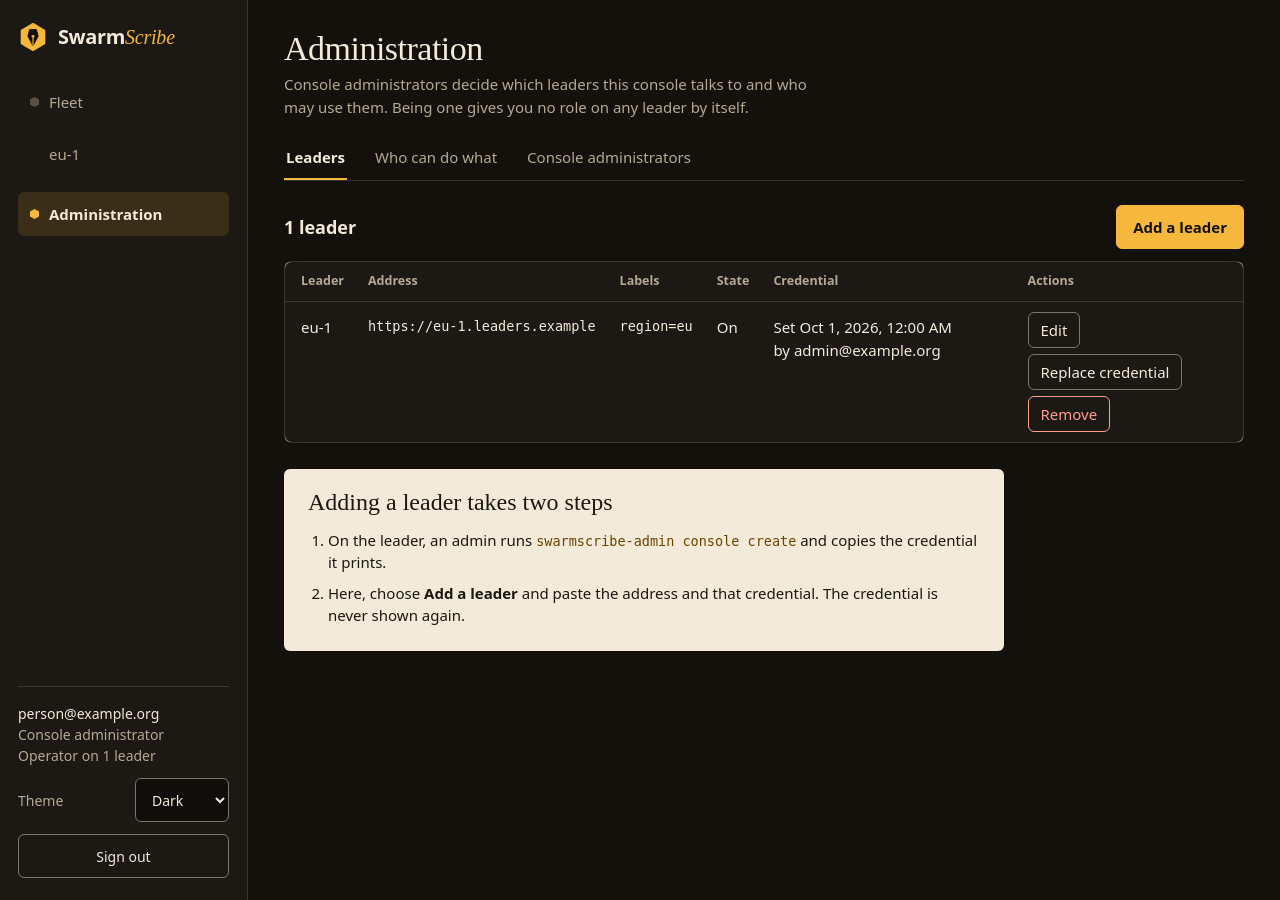
Test: administration pages › refuses malformed labels before sending anything
Click the button with aria-label "Edit eu-1".
click(1054, 330)  # box [1028,312,1080,348]
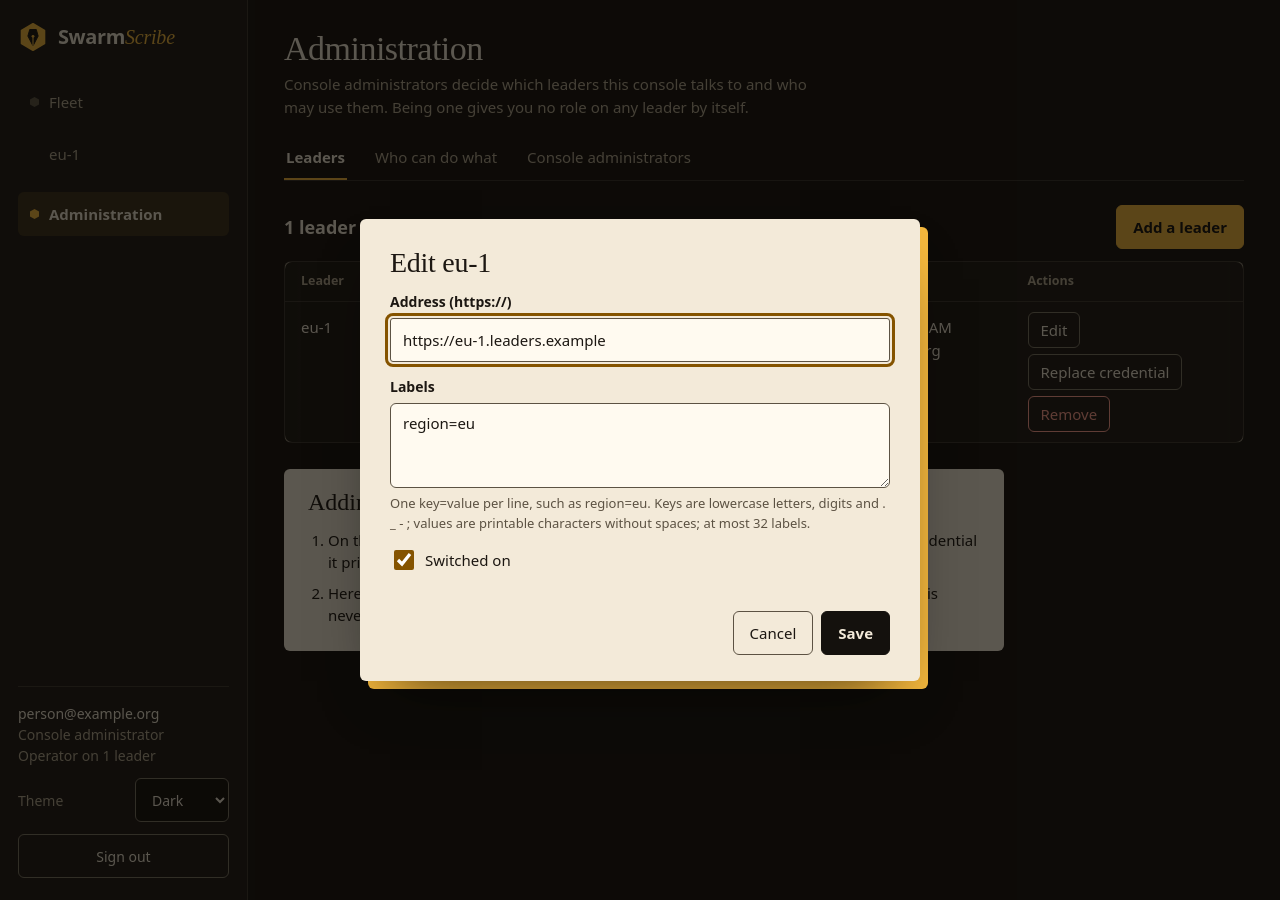
Replace the text in the text box labelled "Labels" with "no equals sign" at coordinates (640, 446), box [390,403,890,488]
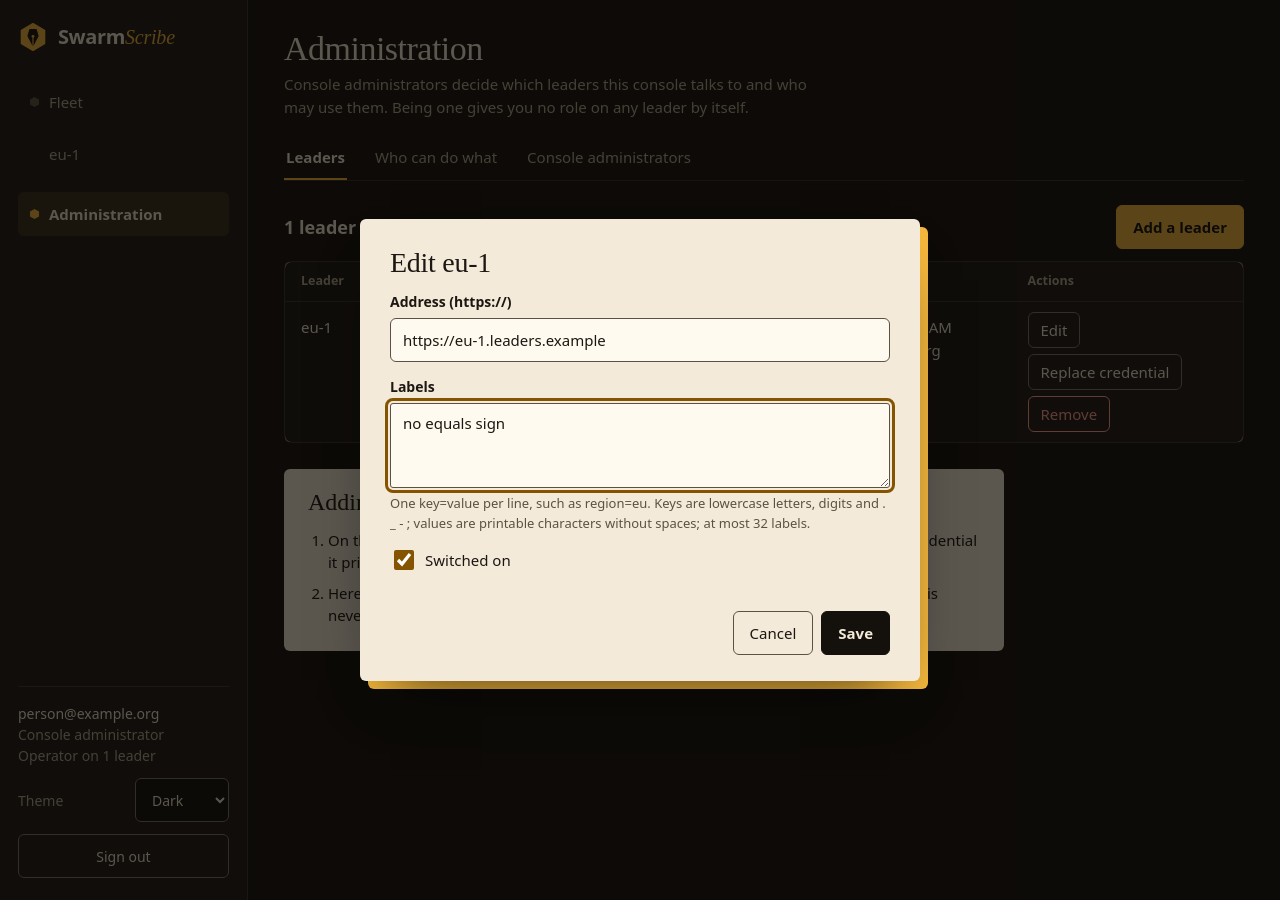
Click the button "Save".
click(856, 633)  # box [821,611,890,655]
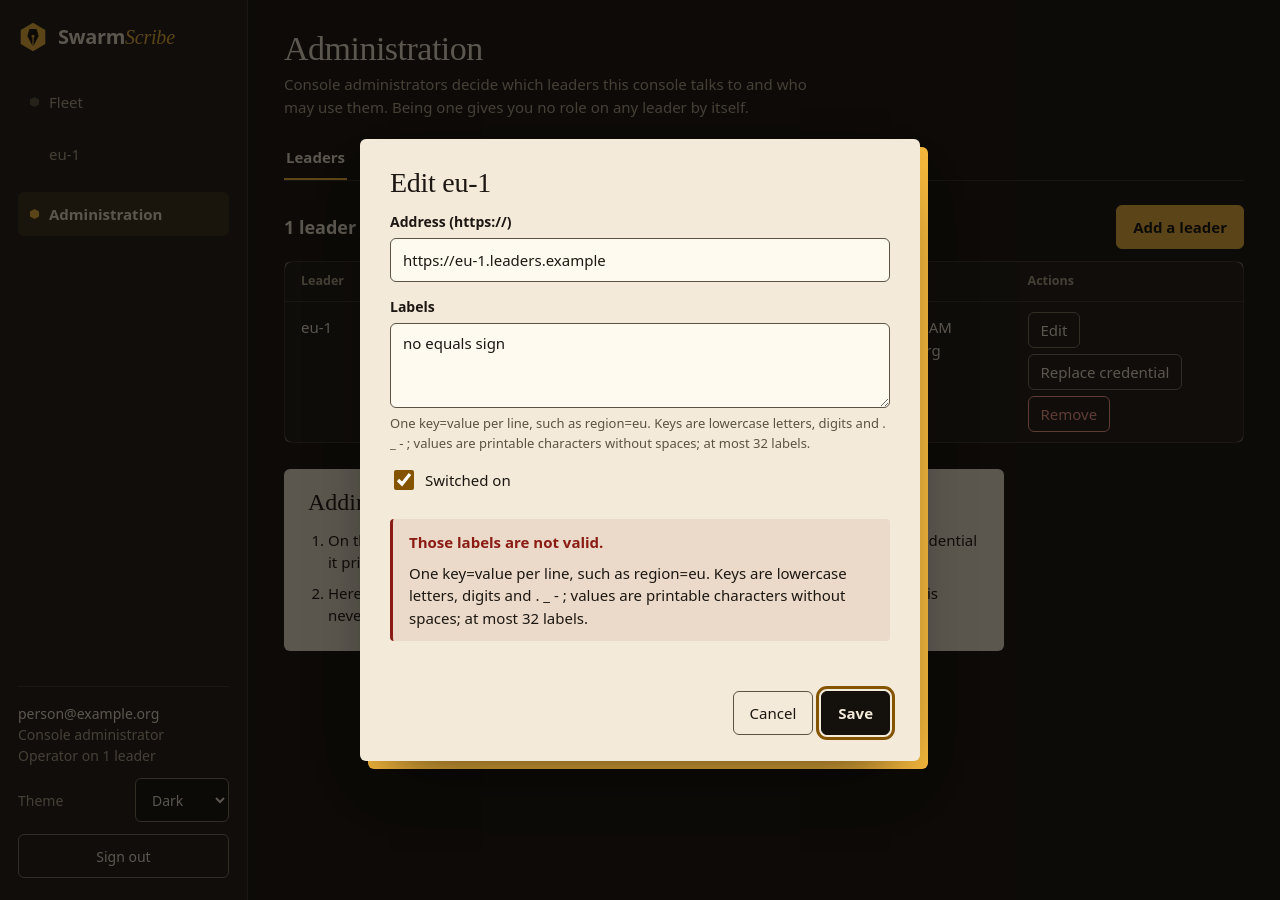
Check: the message shows "Those labels are not valid.", box [409,532,603,552]
